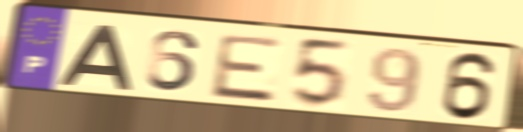5: (287, 35, 357, 112)
6: (439, 50, 498, 123), (146, 29, 203, 95)
9: (365, 46, 422, 116)
A: (55, 22, 135, 92)
E: (207, 32, 286, 104)
